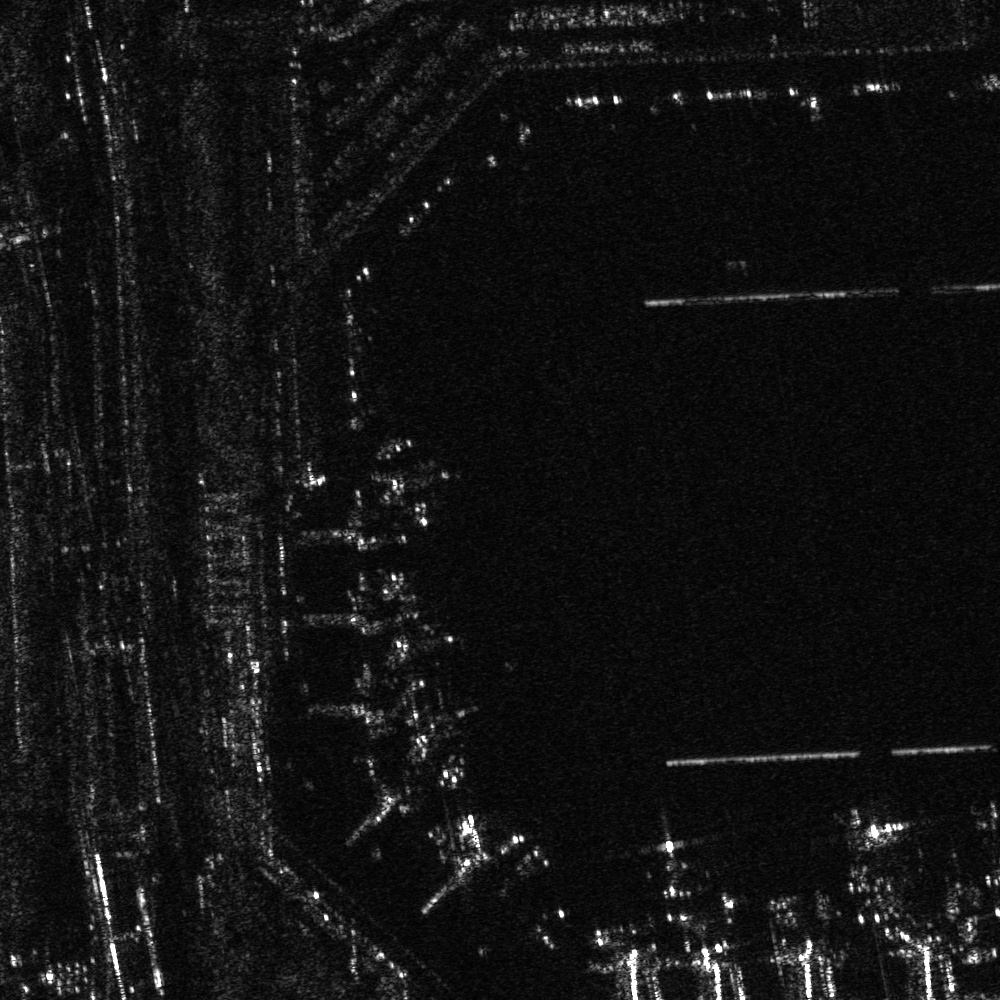A220: (651, 825, 720, 904)
A320/321: (833, 810, 888, 900), (969, 796, 999, 886)
